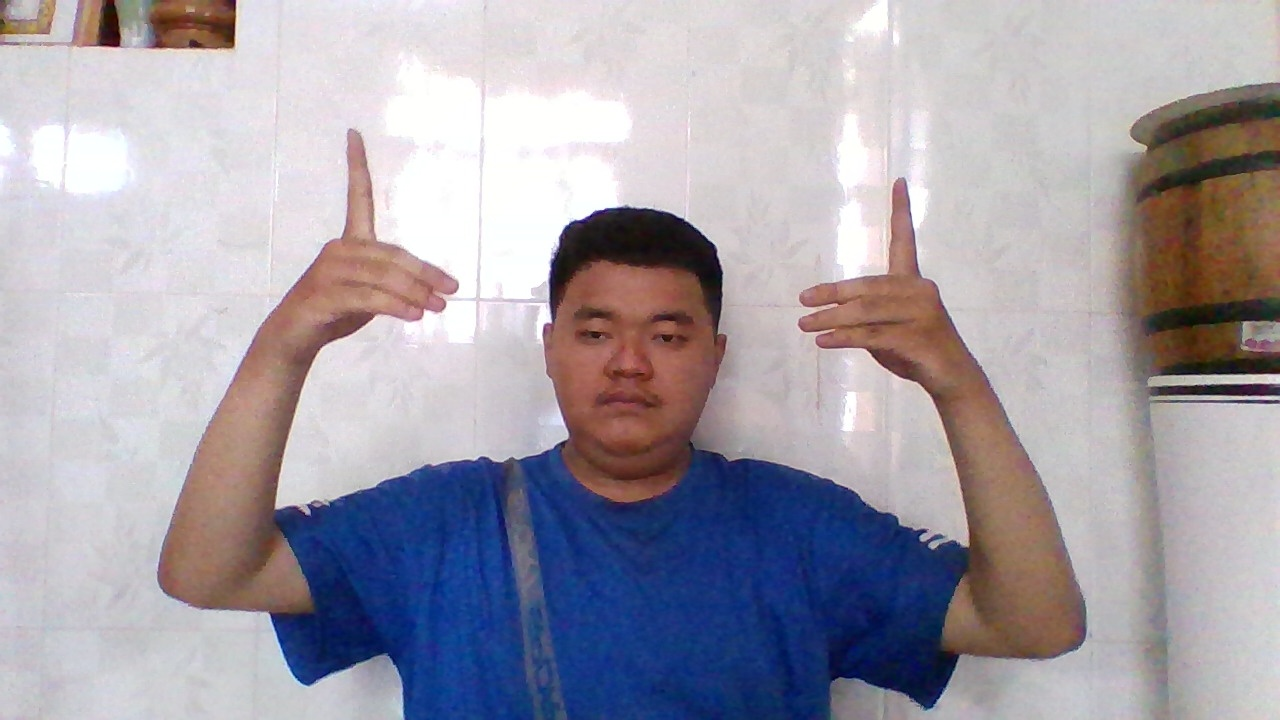D: (270, 123, 462, 368), (785, 170, 973, 403)
